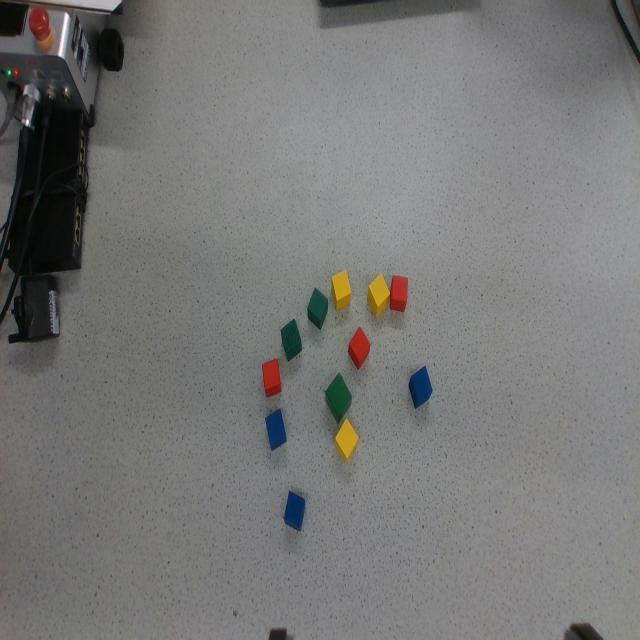blue_cube: (405, 366, 436, 408), (282, 490, 307, 531), (264, 410, 287, 450)
green_cube: (317, 373, 360, 427), (303, 287, 331, 330), (278, 320, 304, 360)
red_cube: (341, 328, 377, 370), (260, 358, 282, 397), (389, 275, 408, 311)
yellow_cube: (359, 273, 398, 317), (327, 418, 365, 462), (328, 269, 355, 311)
